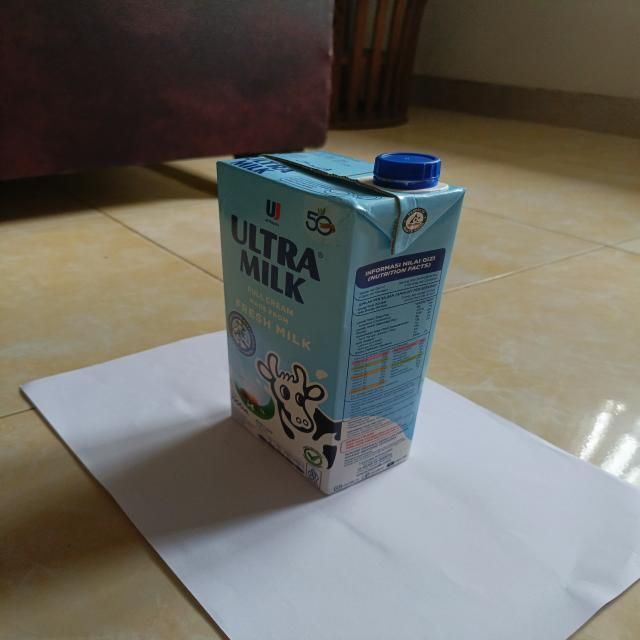indomie-mie-kocok-bandung: (216, 147, 468, 497)
